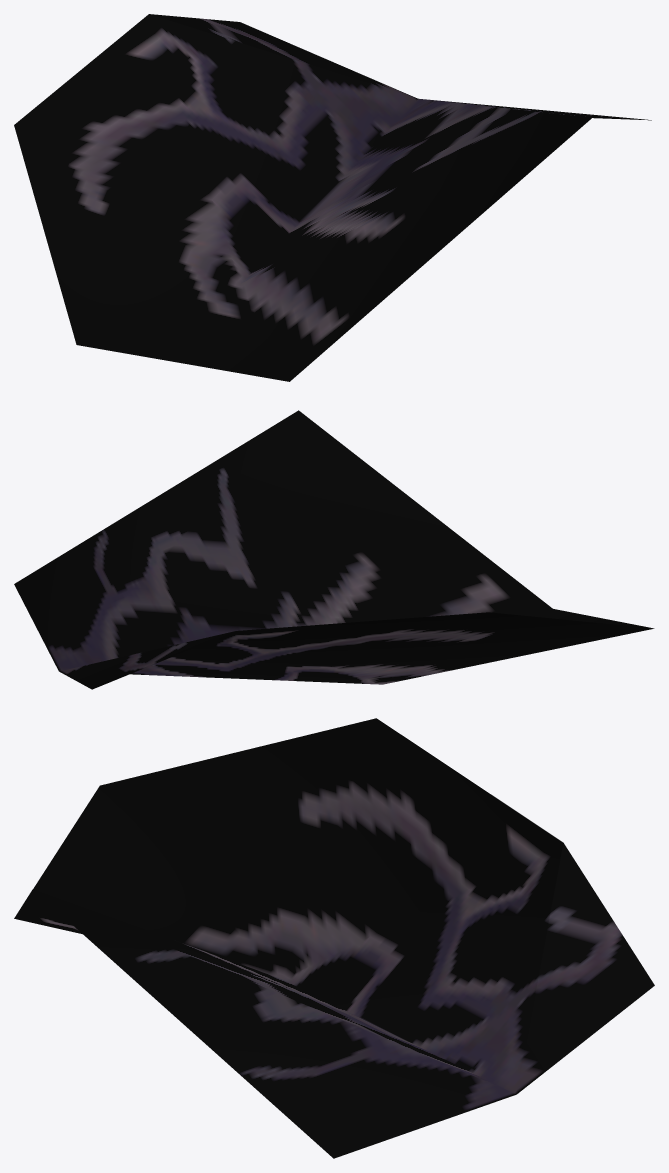
File: yw_shanlin_treebranch_022.FBX
3 views of the same model, one above another, from view 1: azimuth 30°, elevation 25°; view 2: azimuth 150°, elevation 25°; view 3: azimuth 270°, elevation 25° (orthographic). The views are drawn at different scales.
Visible parts, largest first — view 1: yw_shanlin_treebranch_022; view 2: yw_shanlin_treebranch_022; view 3: yw_shanlin_treebranch_022.
Boxes of the visible parts, box(x1,y1,x2,y2) form: yw_shanlin_treebranch_022: box(14, 14, 651, 381); yw_shanlin_treebranch_022: box(14, 410, 654, 689); yw_shanlin_treebranch_022: box(14, 718, 654, 1158).
Bounding box in the file's own units: 296 × 81.68 × 233.
